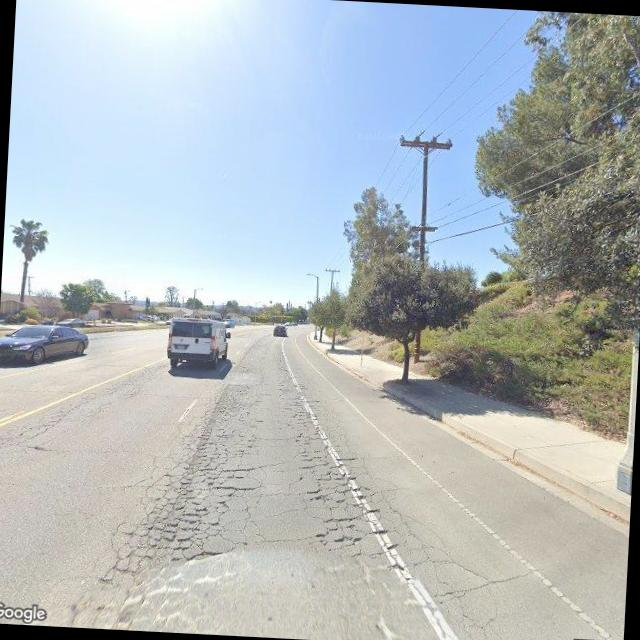crack: (97, 393, 504, 637), (0, 358, 152, 458)
